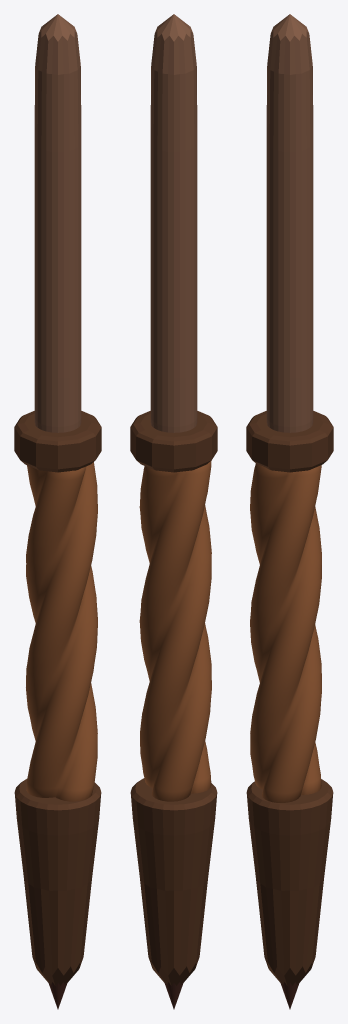
The model's file is Wand 812.glb.
3 renders of one model, left to right at view 1: azimuth 90°, elevation 25°; view 2: azimuth 150°, elevation 25°; view 3: azimuth 270°, elevation 25°, orthographic.
Visible parts, largest first — view 1: GeneratedWand; view 2: GeneratedWand; view 3: GeneratedWand.
Boxes of the visible parts, left/top/right/bottom form: GeneratedWand: left=14, top=14, right=101, bottom=1009; GeneratedWand: left=130, top=14, right=217, bottom=1009; GeneratedWand: left=246, top=14, right=333, bottom=1009.
Bounding box in the file's own units: 0.0398 × 0.4997 × 0.0398.
